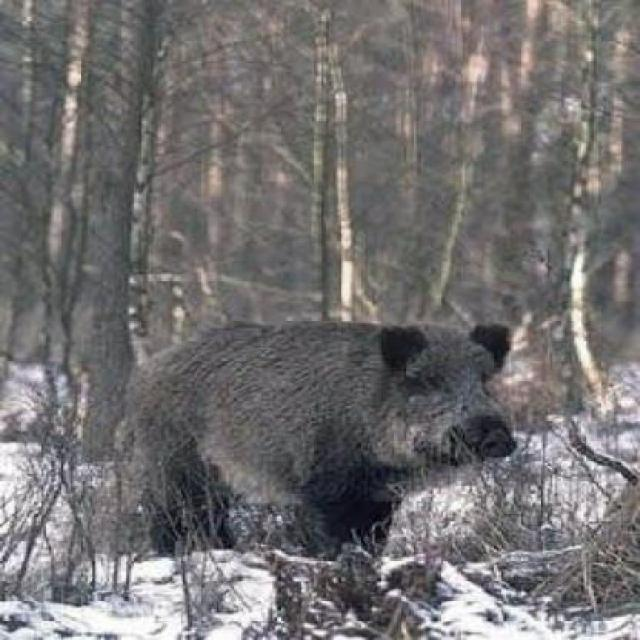Boar: (105, 295, 549, 603)
